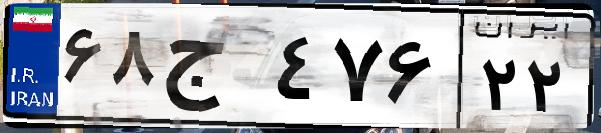2: (475, 38, 525, 113), (525, 38, 570, 115)
4: (270, 28, 330, 110)
6: (385, 28, 445, 110), (57, 26, 110, 100)
7: (330, 28, 385, 110)
8: (110, 28, 158, 98)
ج: (158, 20, 270, 120)
